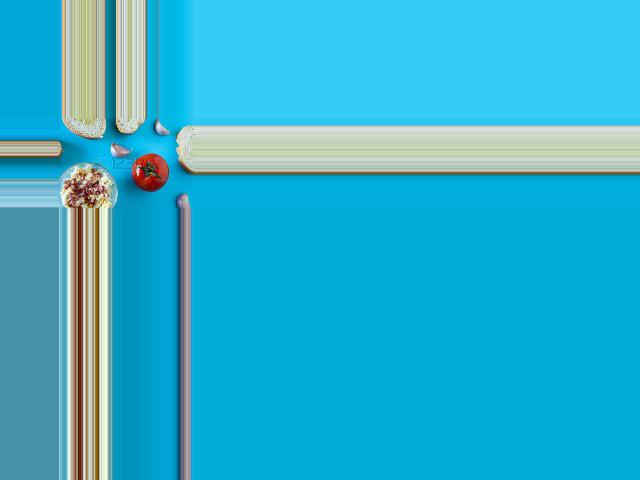tomato: (133, 153, 169, 192)
